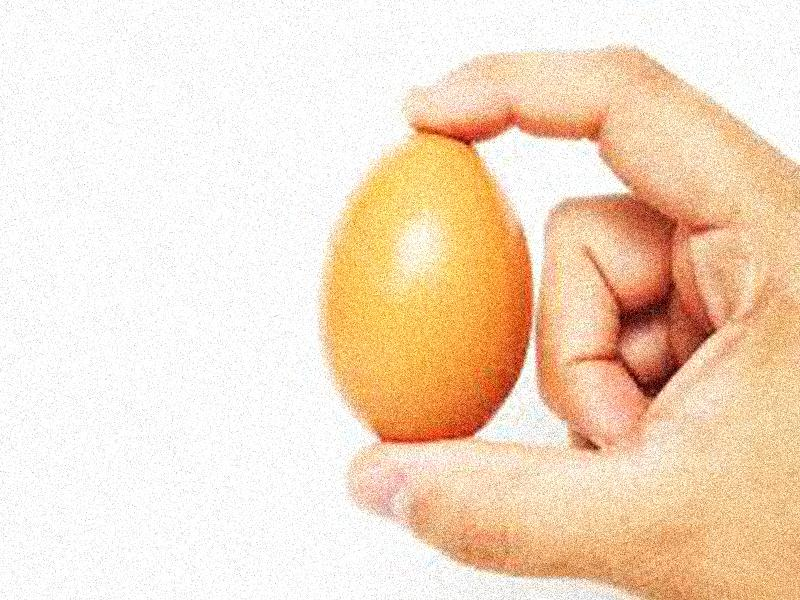Eggs: (316, 125, 534, 443)
